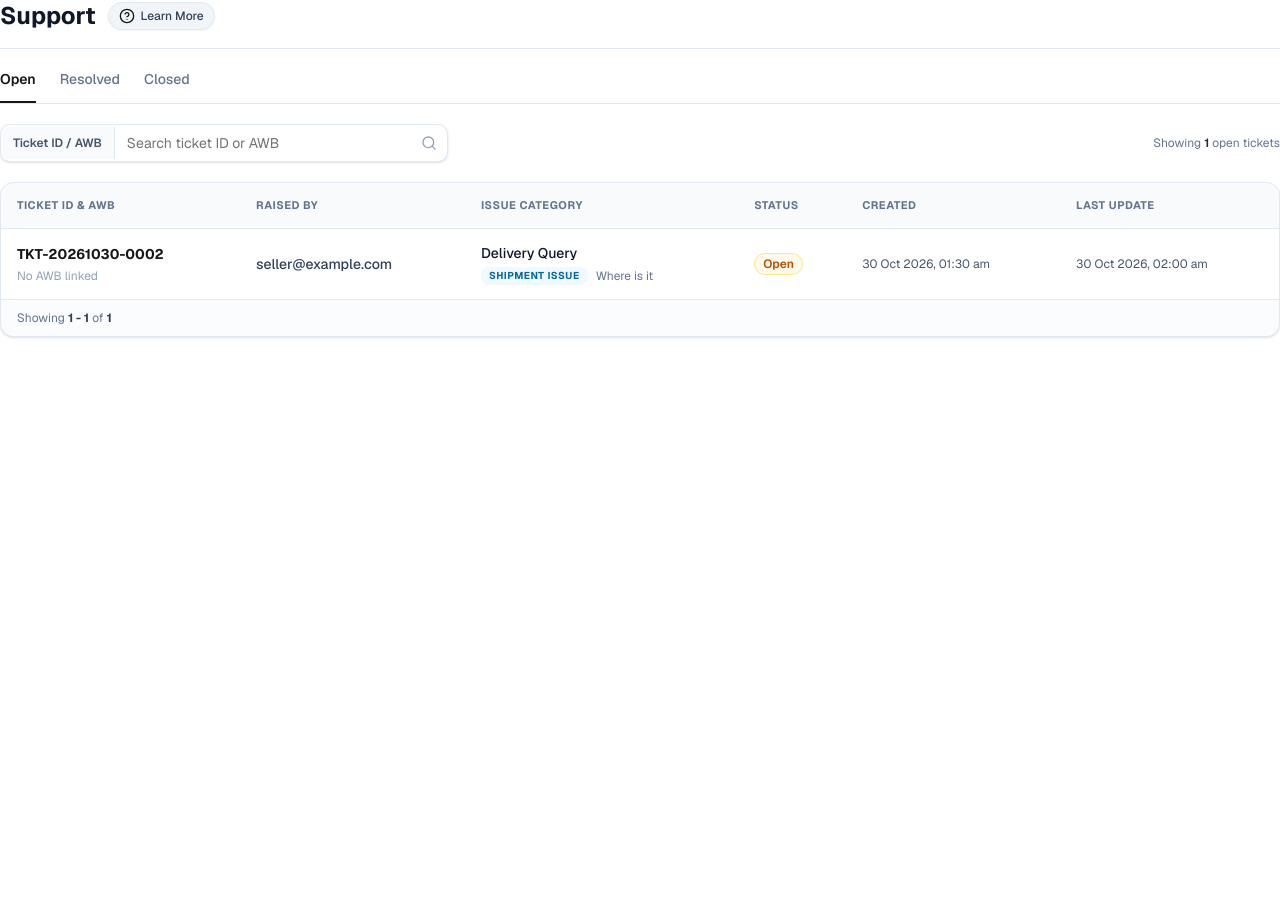
Test: Support tickets D-19 & IST timestamps (F-02) › hides raise and reply for a read-only user
What coordinates should you click on to do the following:
click the text "TKT-20261030-0002"
I would click on:
 (90, 254)
Its box is [17,245,164,263].
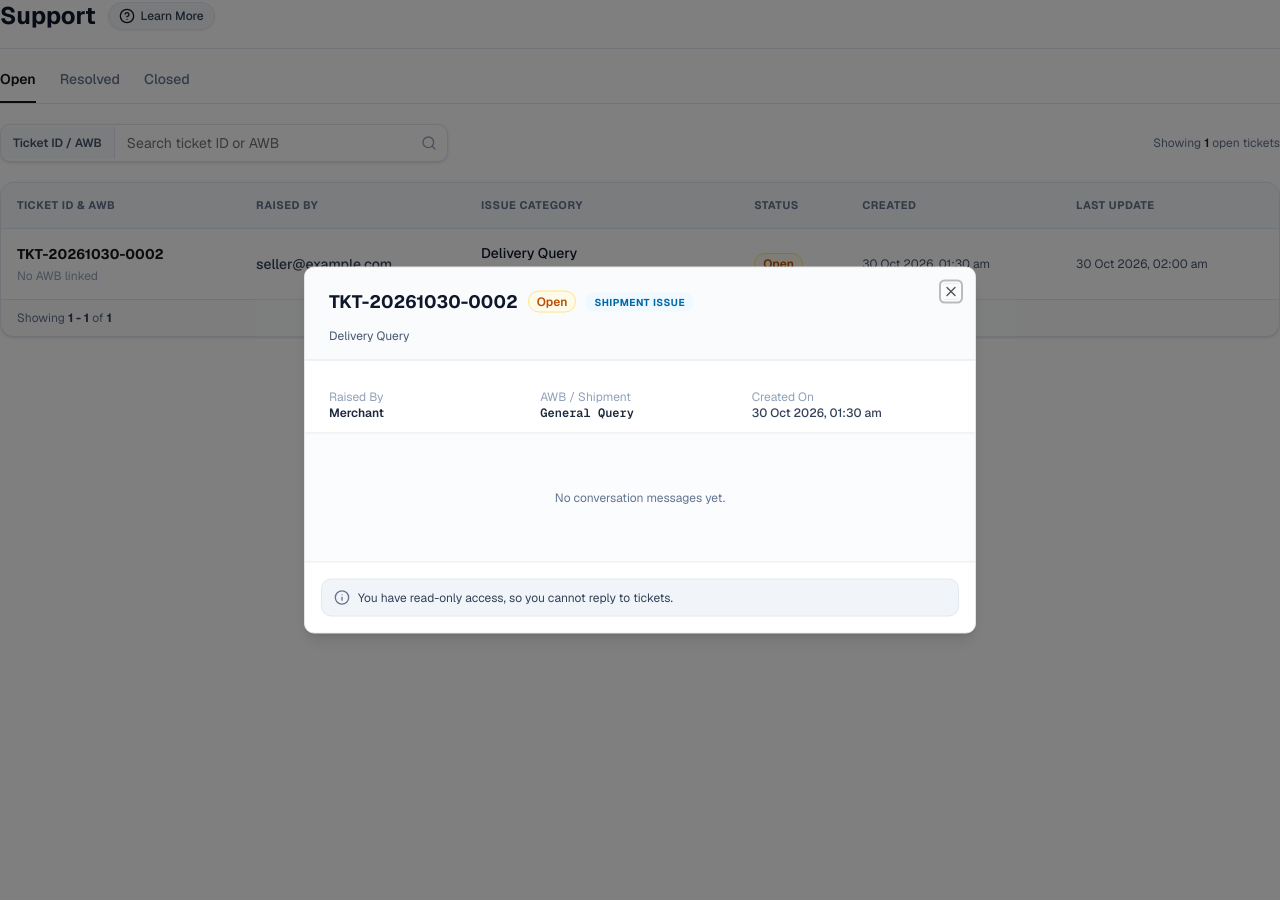
Check: the element with test id "read-only-ticket-notice" is shown, box [321,578,959,616]
